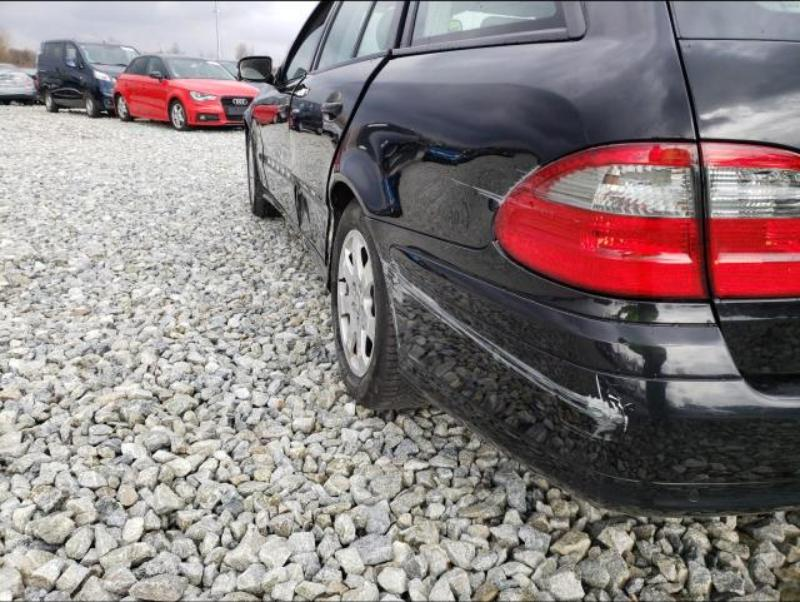Back-bumper: (368, 218, 799, 521)
Back-door: (289, 1, 404, 264)
Back-wheel: (330, 198, 433, 408)
Back-window: (412, 1, 564, 46), (314, 1, 372, 72), (357, 2, 397, 55)
Fender: (243, 93, 265, 187)
Front-door: (258, 1, 338, 218)
Front-wheel: (246, 122, 278, 215)
Front-window: (277, 1, 338, 81)
Headlight: (494, 140, 716, 301), (701, 141, 798, 298)
Mirror: (239, 57, 275, 83)
Quarter-panel: (327, 30, 698, 263)
Rocker-panel: (260, 186, 327, 286)
Trunk: (668, 2, 796, 148)
